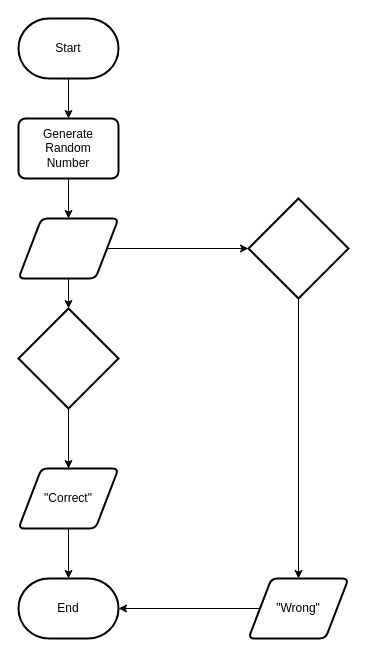
The diagram is 366 pixels wide and 656 high, and some of its shapes have lost their labels. Here are the shapes that lost their labels. From the top down, the centre of each, then its label:
At [68,248]: "Get Slider Value".
At [298,248]: "if slideValue != randomNum".
At [68,358]: "if slideValue == randomNum".
